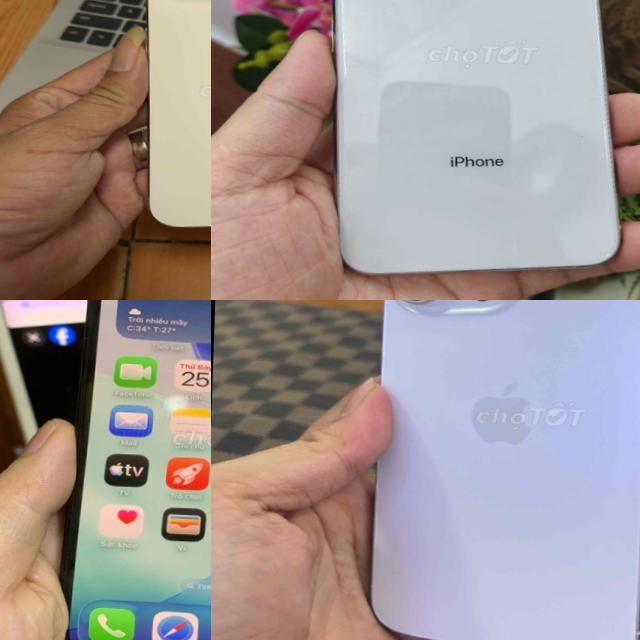gen_12_13: (36, 300, 211, 640)
gen_15: (348, 300, 640, 640)
gen_17: (135, 0, 211, 243)
gen_x_xs: (311, 0, 638, 294)
